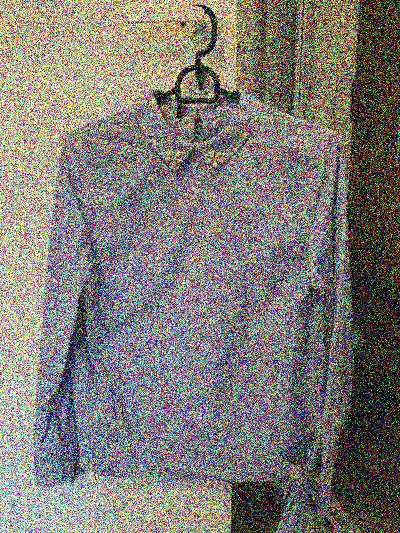Blouse: (27, 66, 365, 519)
